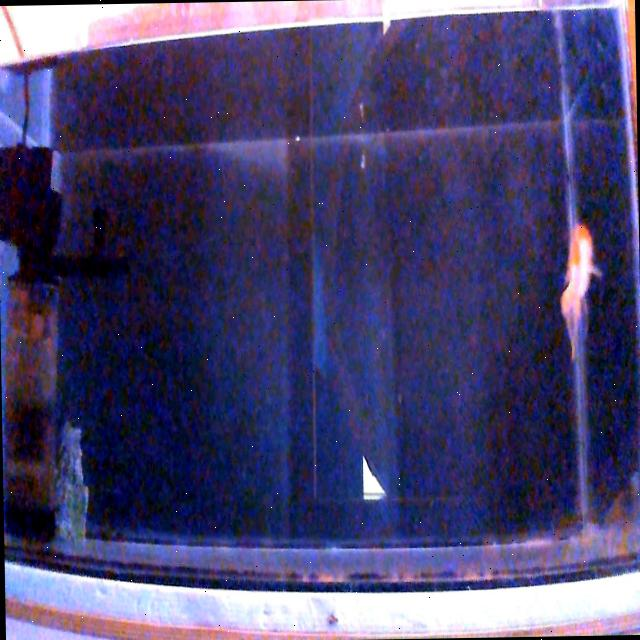fish: (558, 222, 602, 356)
